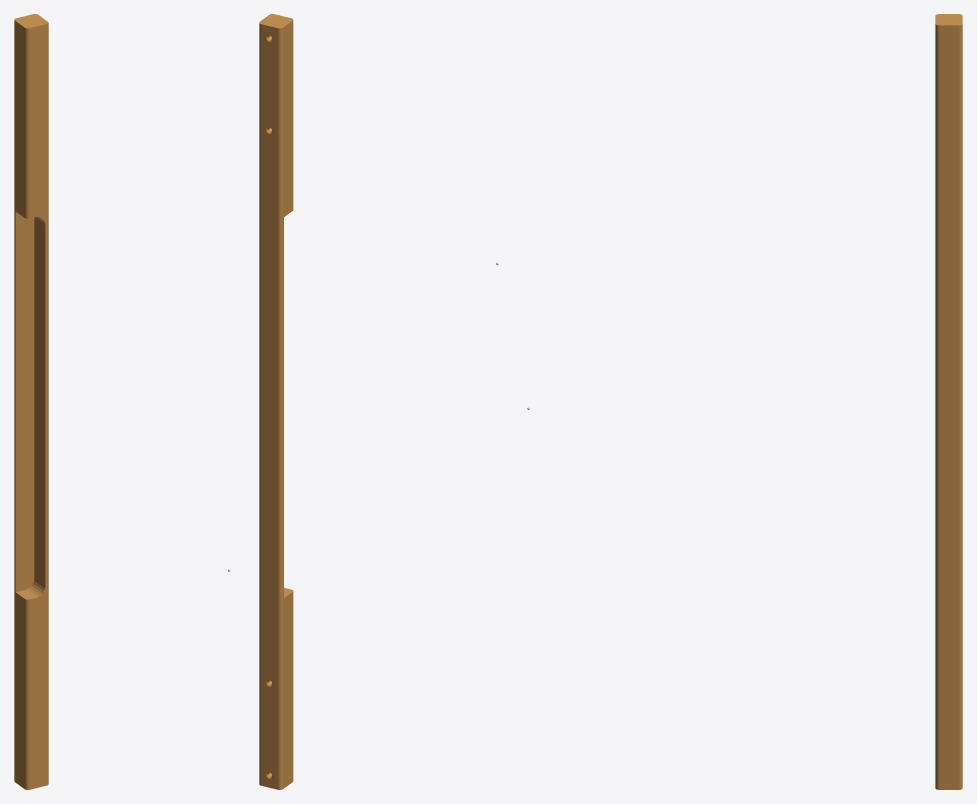
Rendered from 124 pvd r gold.glb.
3 renders of one model, left to right at view 1: azimuth 30°, elevation 25°; view 2: azimuth 150°, elevation 25°; view 3: azimuth 270°, elevation 25°, orthographic.
Parts seen in each view (by area): view 1: CABINET_HANDLE_124; view 2: CABINET_HANDLE_124; view 3: CABINET_HANDLE_124.
Boxes of the visible parts, bbox=[...] form: CABINET_HANDLE_124: bbox=[14, 14, 48, 789]; CABINET_HANDLE_124: bbox=[259, 14, 293, 789]; CABINET_HANDLE_124: bbox=[935, 14, 962, 789].
Bounding box in the file's own units: 0.35 × 10.33 × 5.33.
